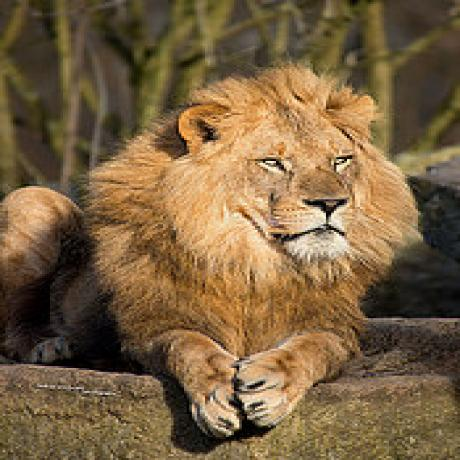Lion: (0, 59, 422, 440)
